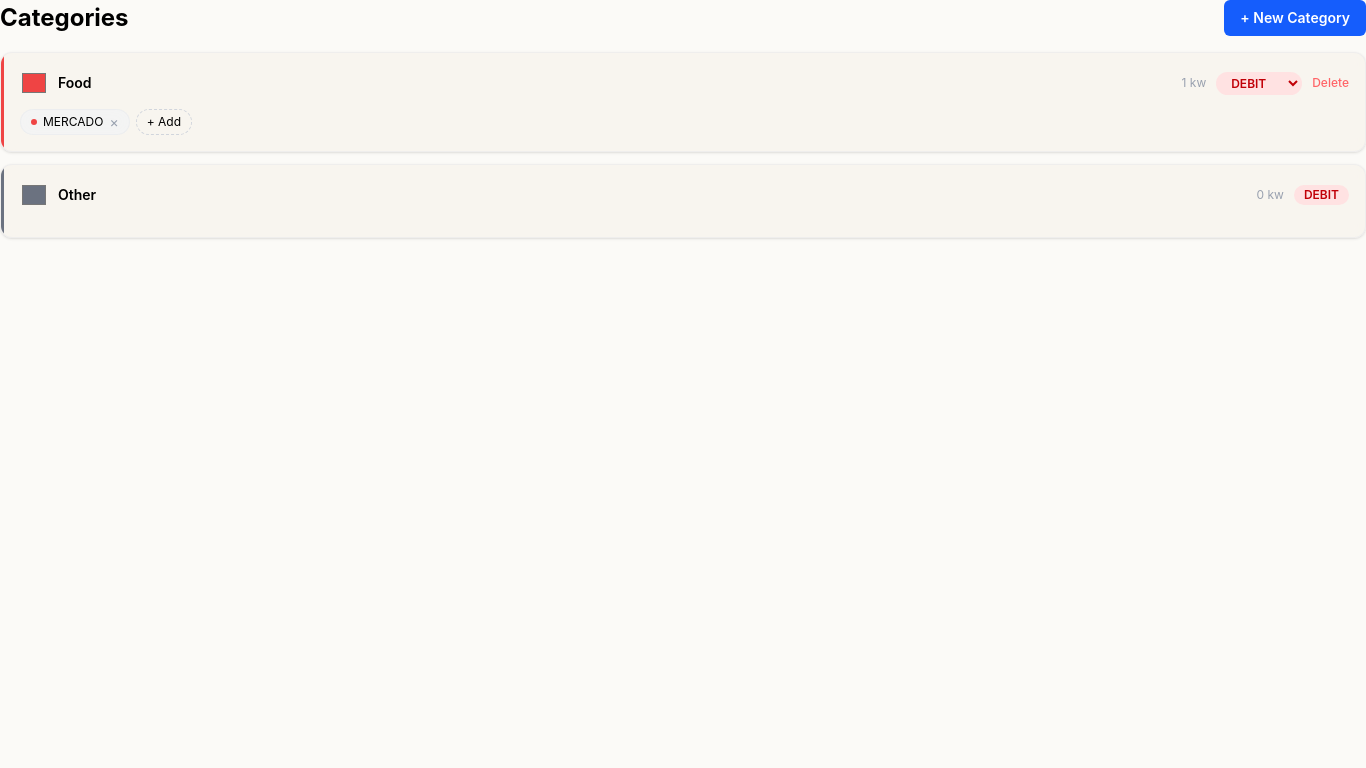
Categories › opens modal when new category clicked
Click the button "+ New Category" at (1295, 18), box [1224,0,1365,36]
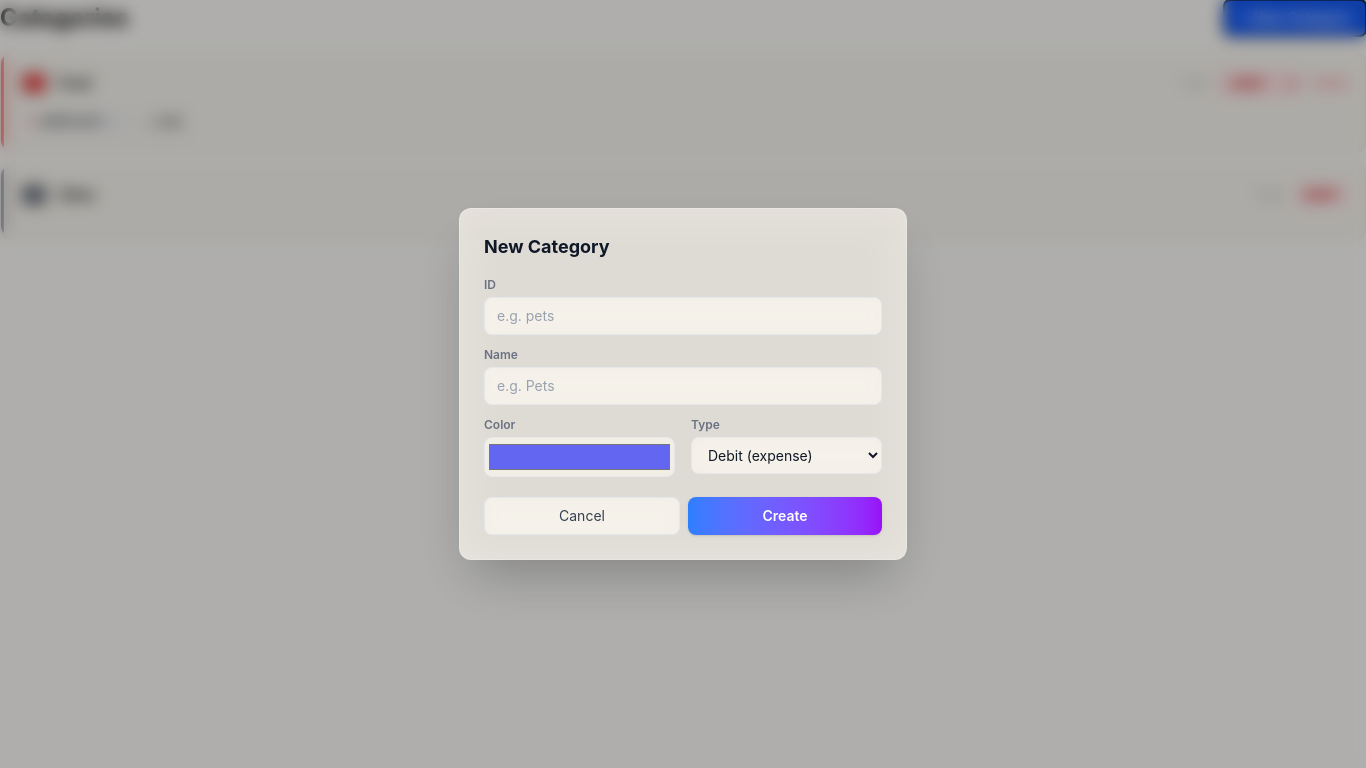
Check: the heading "New Category" is shown, box [484,236,610,257]
